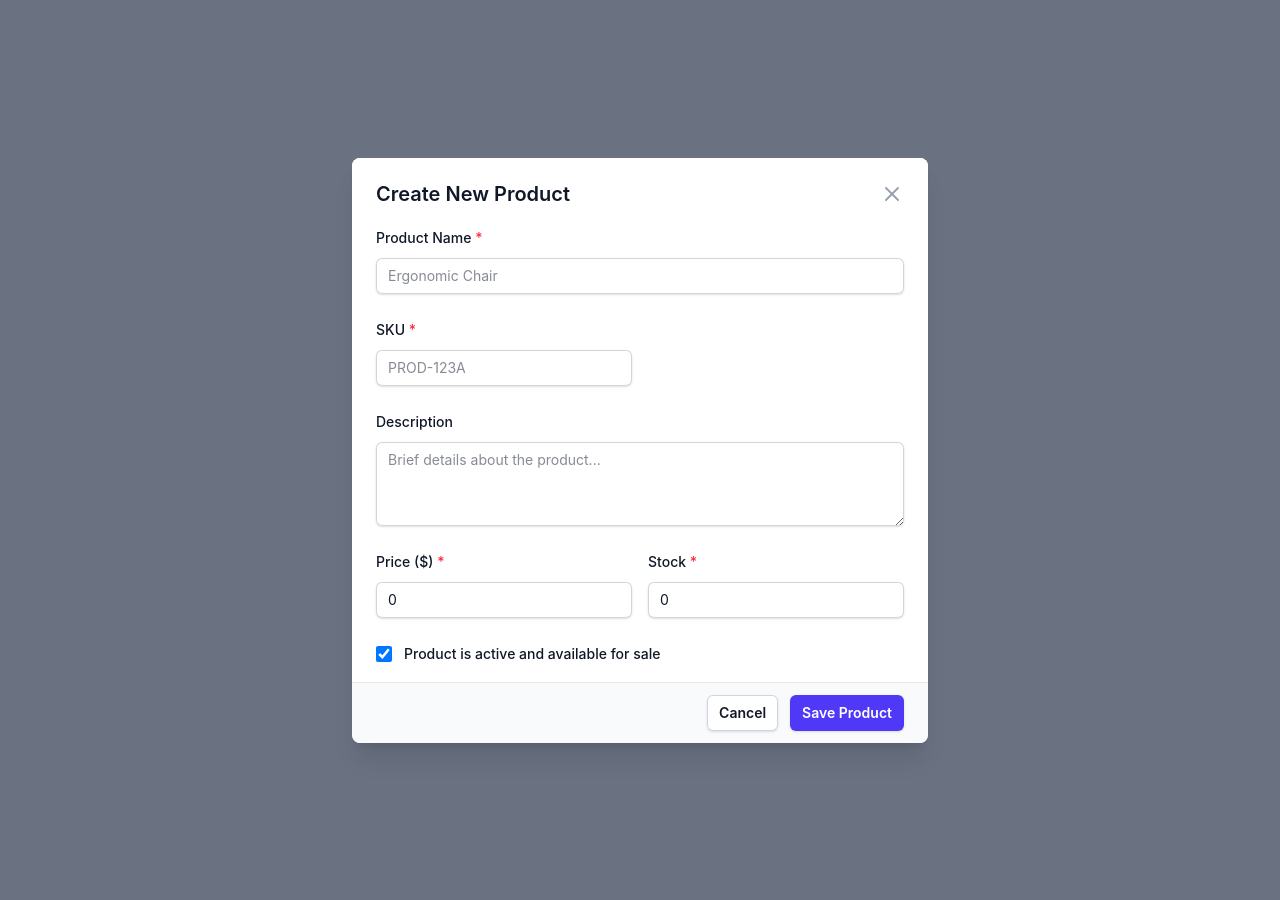
Scenario: ProductModal Validations › shows validation errors for empty required fields on submit
The image size is (1280, 900).
Default state: empty name, sku. Price and stock are 0.
Click the button with test id "submit-btn". click: (847, 712)
box: [790,694,904,730]
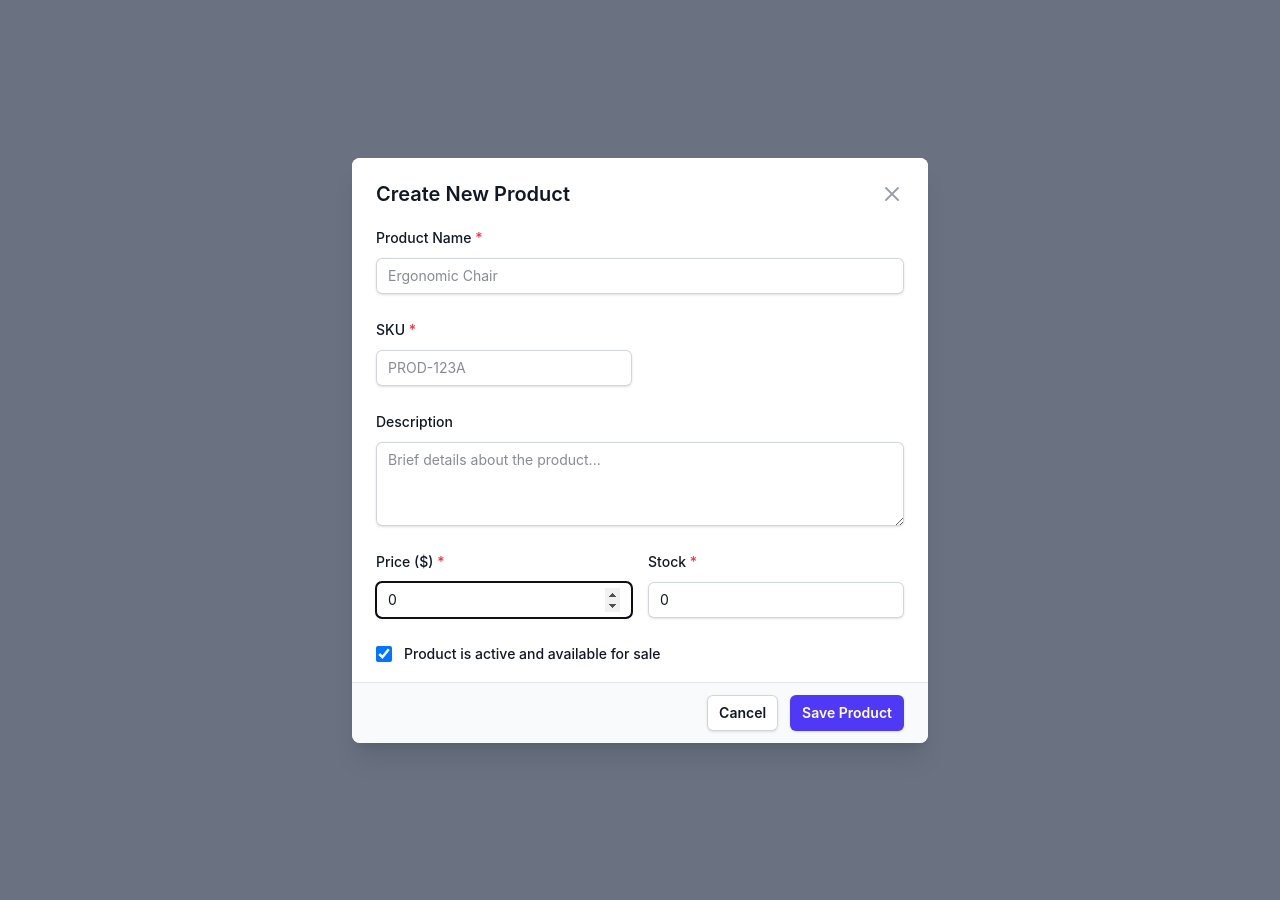
Type "a" into the field labelled "Product Name *". click: (640, 276)
box: [376,258,904,294]
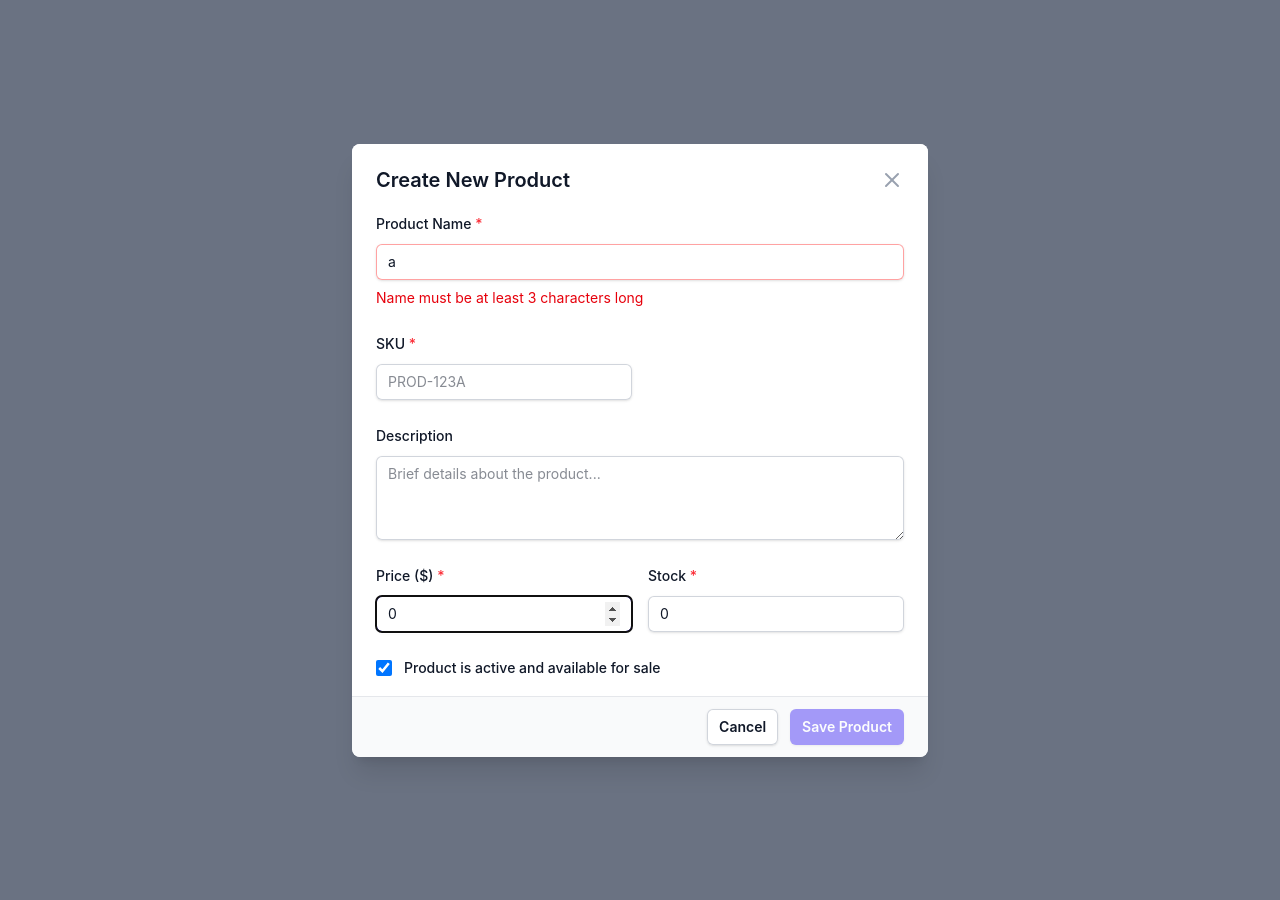
Now the text with test id "error-name" reads "Name must be at least 3 characters long", box [376,288,643,306]
Type "invalid sku!" into the field labelled "SKU *". click: (504, 382)
box: [376,364,632,400]
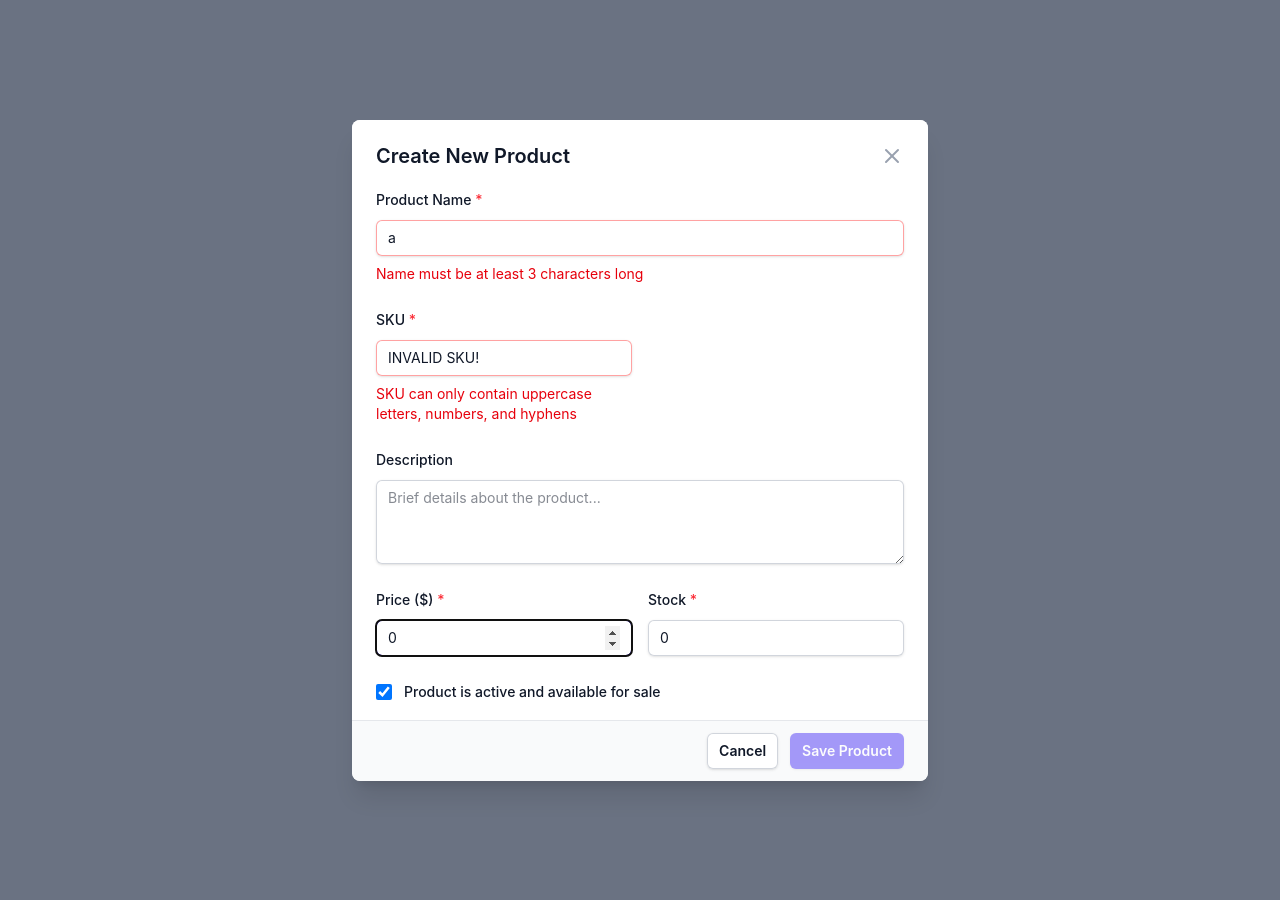
Now the text with test id "error-sku" reads "SKU can only contain uppercase letters, numbers, and hyphens", box [376,384,592,422]
Replace the text in the number field labelled "Price ($) *" with "-5". click: (504, 638)
box: [376,620,632,656]
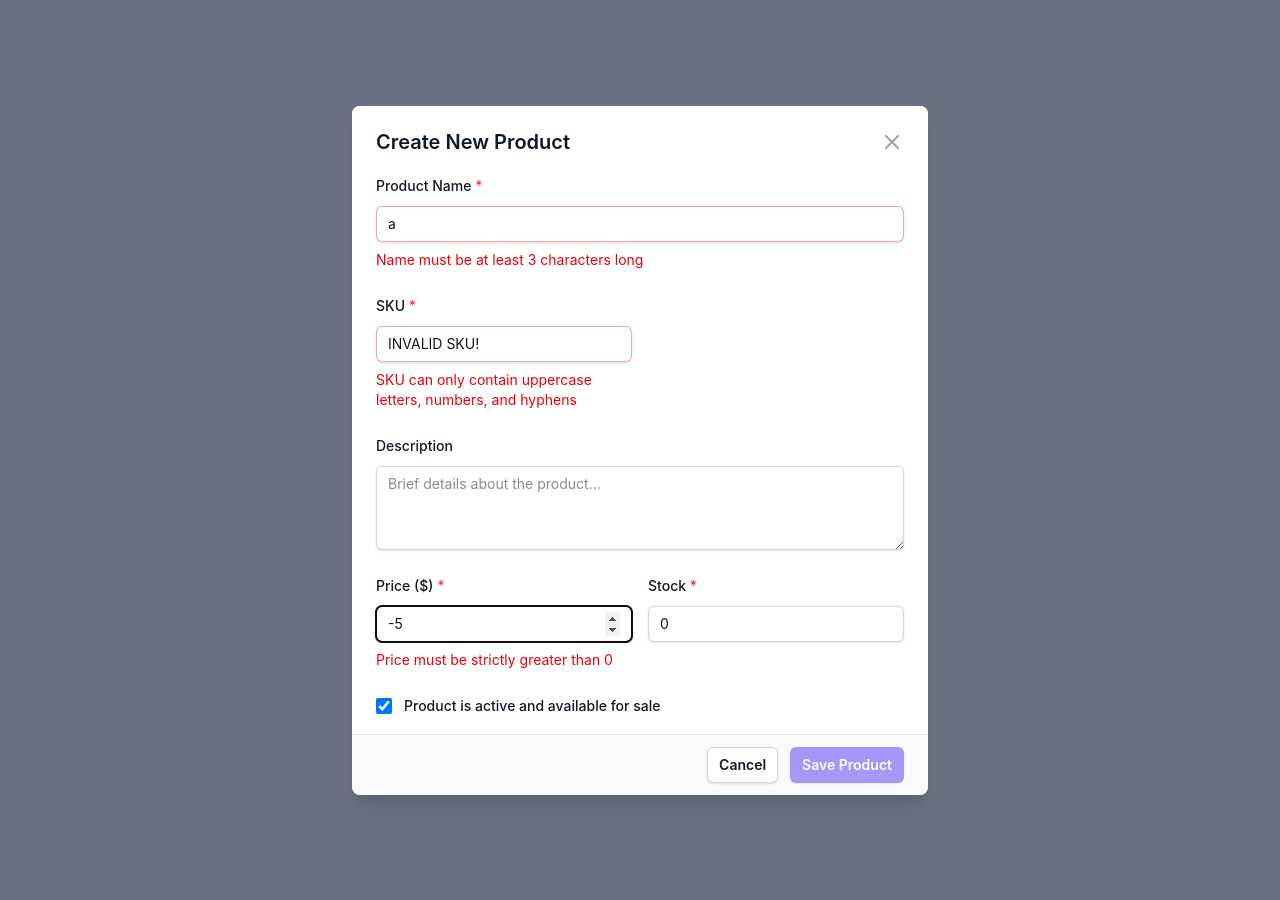
Now the button with test id "submit-btn" is disabled, box [790,746,904,782]
Now the text with test id "error-price" reads "Price must be strictly greater than 0", box [376,650,613,668]
